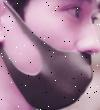mask_weared_incorrect: (2, 1, 100, 110)
